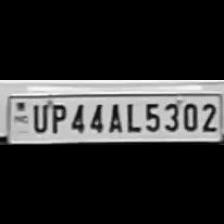0: (180, 98, 198, 130)
2: (198, 97, 218, 130)
3: (161, 97, 179, 130)
4: (85, 99, 105, 131), (68, 98, 86, 132)
5: (141, 97, 161, 130)
A: (104, 98, 124, 132)
L: (122, 97, 140, 130)
P: (47, 100, 67, 134)
U: (28, 98, 48, 132)
